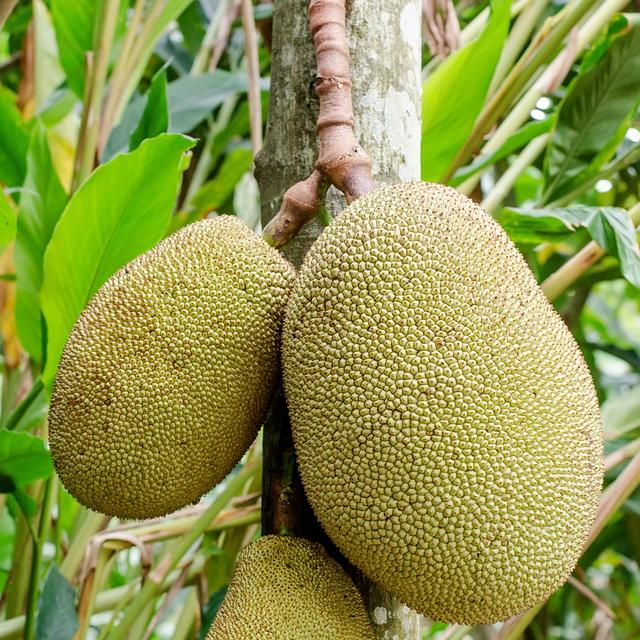mit: (282, 177, 604, 625), (48, 216, 289, 521), (206, 535, 378, 640)
